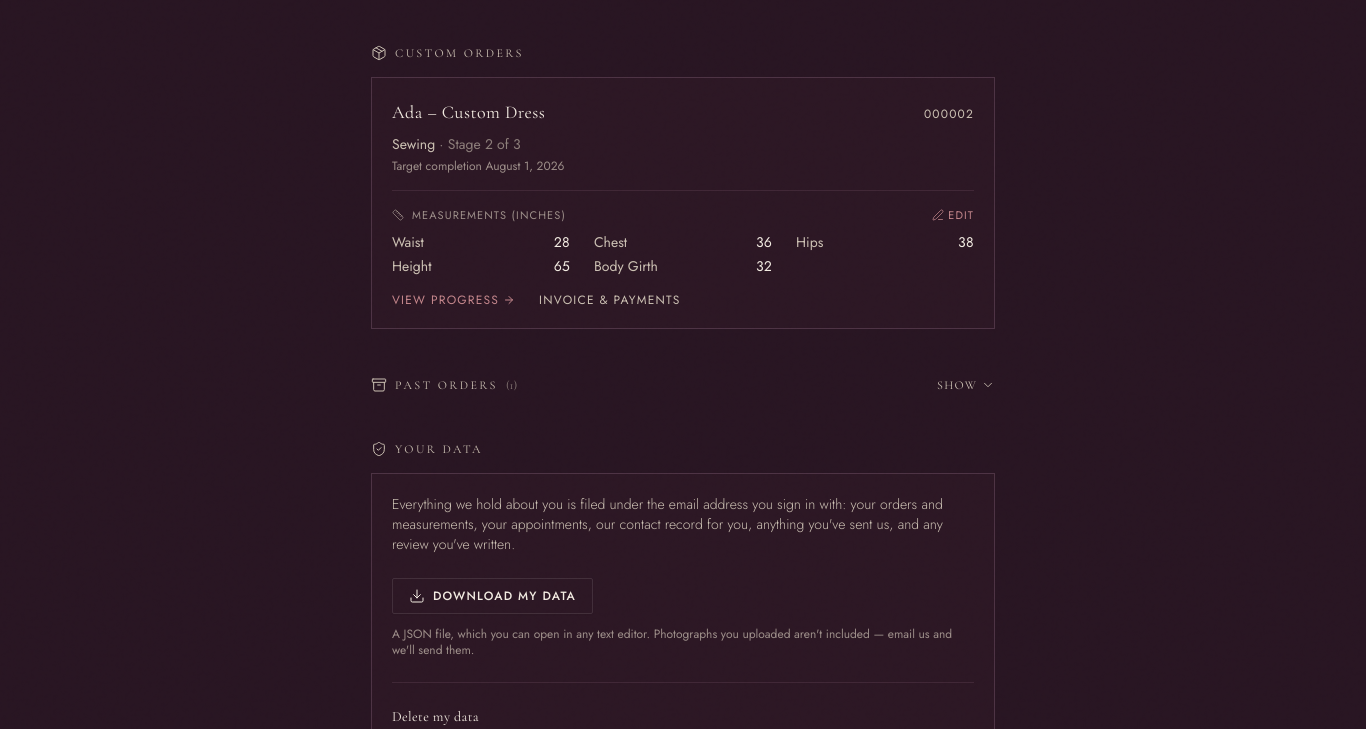
Test: Account dashboard › badges a completed shop order under past orders
The width and height of the screenshot is (1366, 729).
(page scrolled)
Click the button with test id "button-toggle-past-orders": point(966, 384) [937,376,995,392]
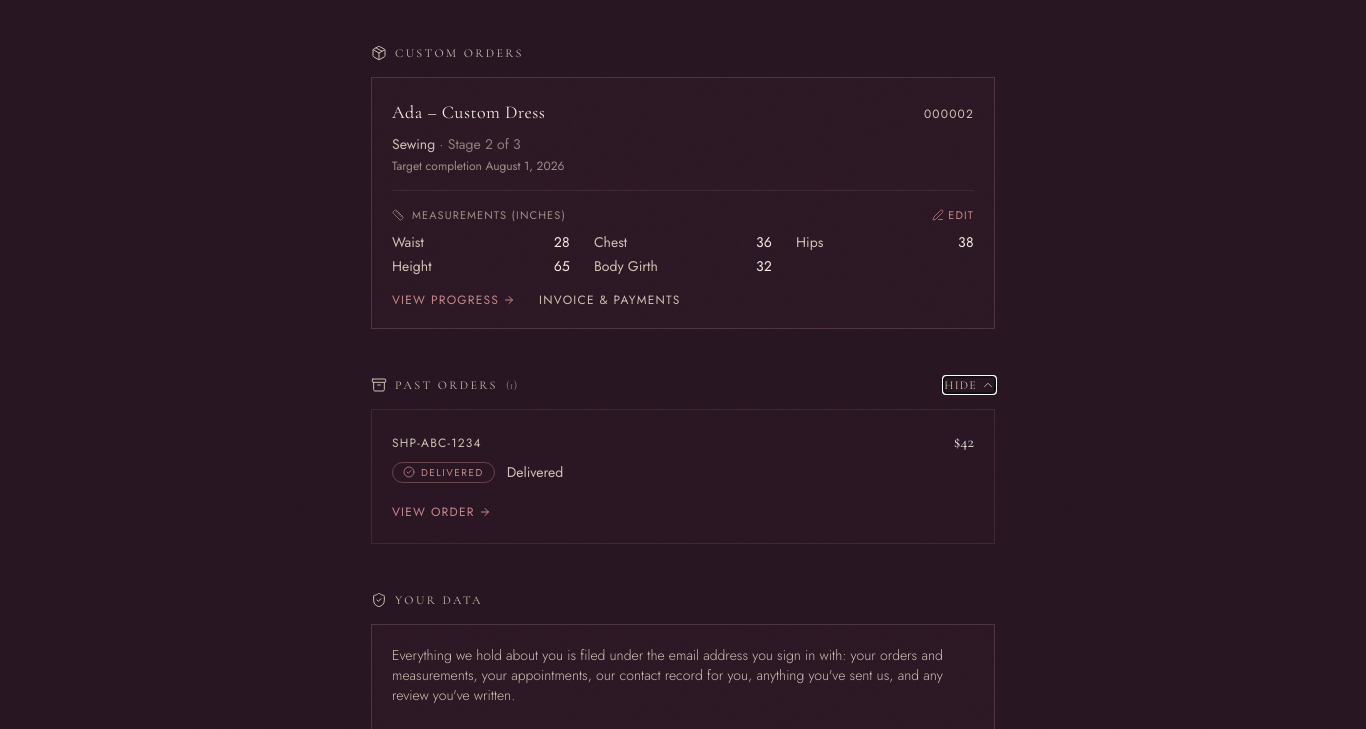
Check: the element with test id "order-state-completed" reads "Delivered", box [421,464,484,480]
